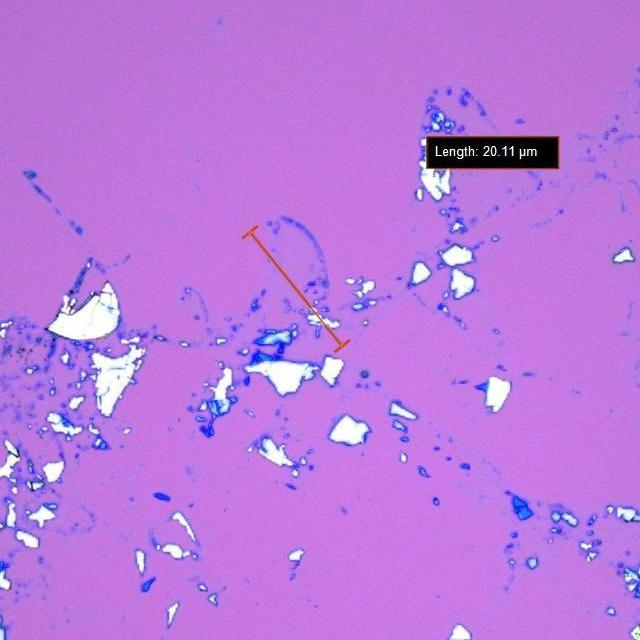monolayer-eWW4: (340, 506, 348, 516)
